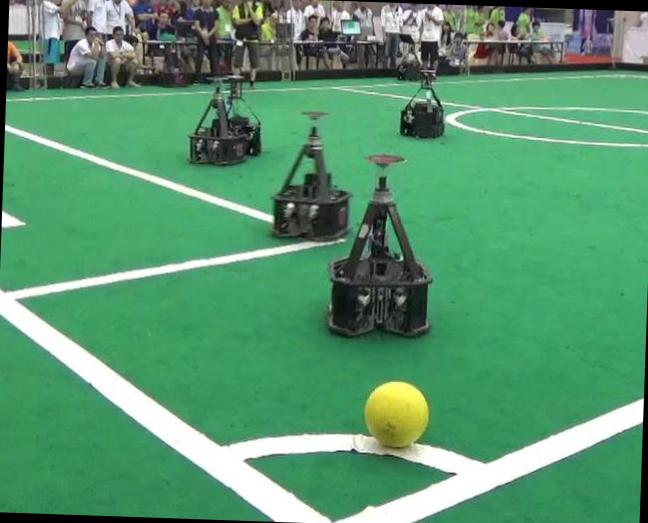ball: (364, 381, 429, 447)
person: (232, 0, 263, 85)
robot: (328, 176, 430, 335), (273, 111, 349, 240), (189, 85, 247, 164), (221, 77, 260, 154), (400, 69, 444, 137)
